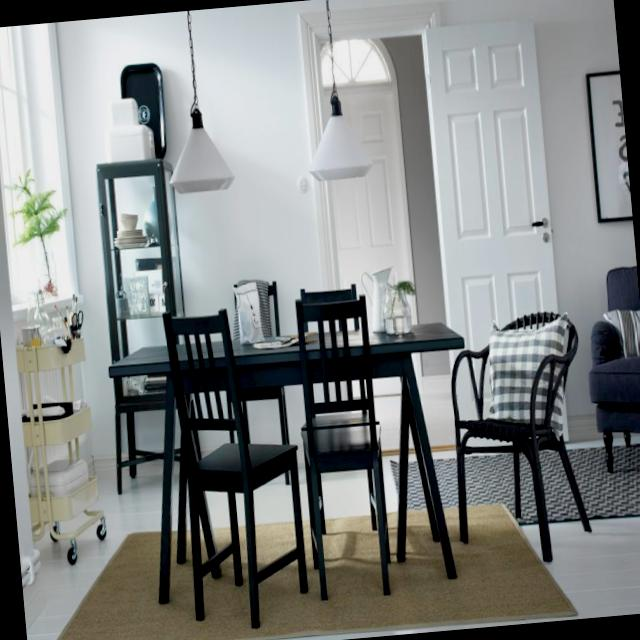obstacle: (96, 269, 603, 640), (10, 282, 114, 566), (573, 246, 640, 488)
